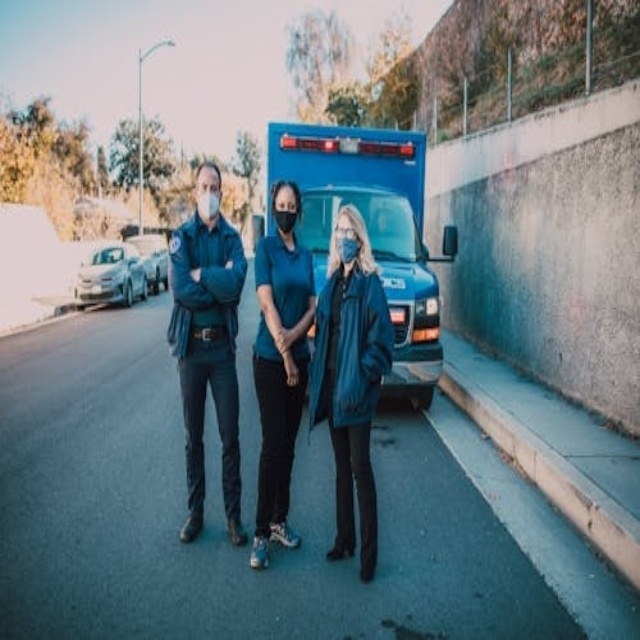Gafas: (335, 227, 358, 238)
Mascara: (197, 191, 221, 221), (337, 237, 360, 264), (275, 209, 297, 233)
Sin_gafas: (193, 177, 220, 192), (275, 194, 296, 211)
Sin_guantes: (277, 334, 301, 385)
